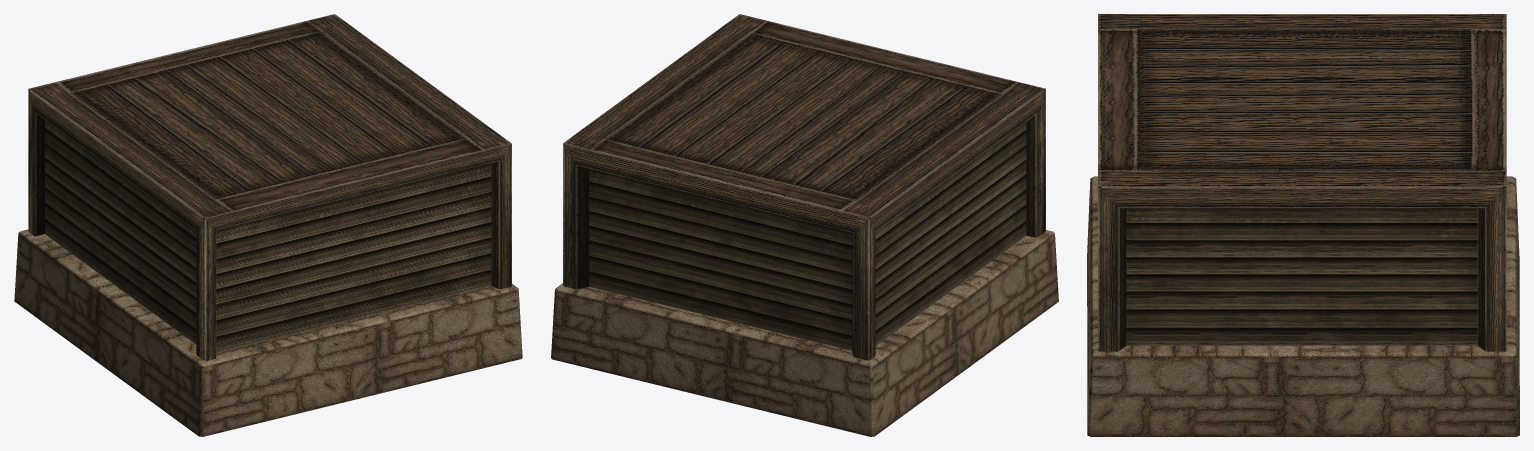
Rendered from House_6X6_02c.fbx.
The picture shows the model from 3 angles, left to right: view 1: azimuth 30°, elevation 25°; view 2: azimuth 150°, elevation 25°; view 3: azimuth 270°, elevation 25°; orthographic projection. The views are drawn at different scales.
Parts seen in each view (by area): view 1: House_6X6_02c; view 2: House_6X6_02c; view 3: House_6X6_02c.
Part boxes in pixels (box(x1,y1,x2,y2)): House_6X6_02c: box(14, 14, 522, 436); House_6X6_02c: box(551, 14, 1058, 436); House_6X6_02c: box(1087, 14, 1519, 436).
Size of the model in its own units: 6.34 by 3.99 by 6.36.
